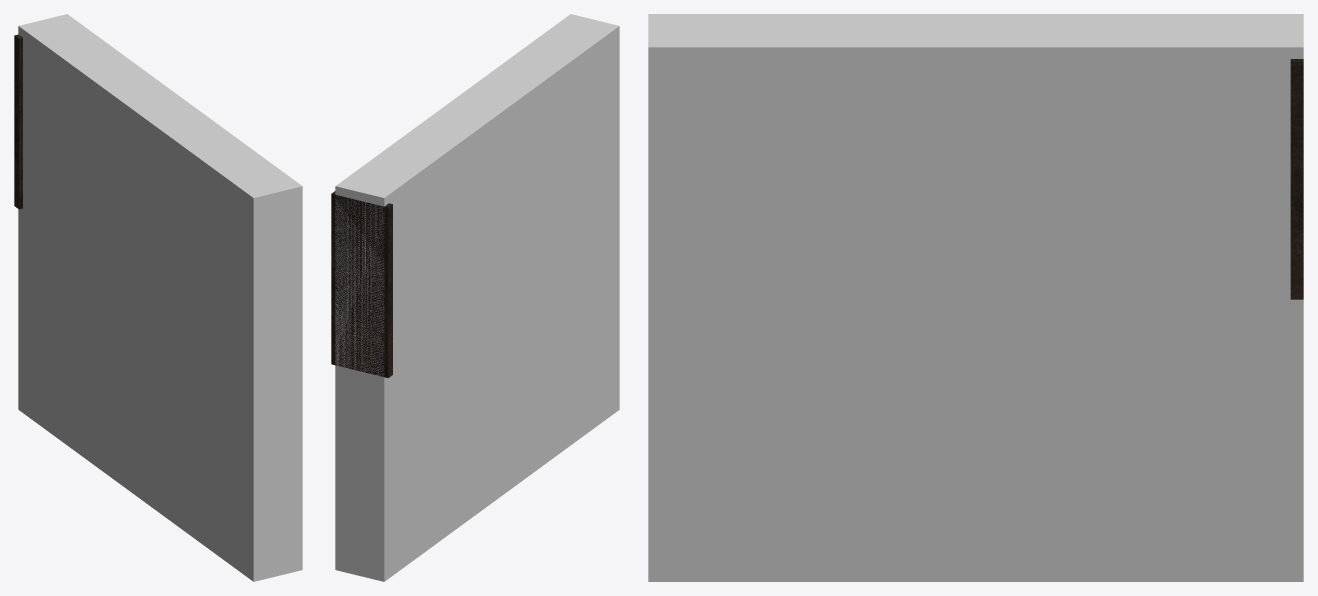
Rendered from hanging_sign_v1.glb.
3 views of the same model, side by side, from view 1: azimuth 30°, elevation 25°; view 2: azimuth 150°, elevation 25°; view 3: azimuth 270°, elevation 25° (orthographic). The views are drawn at different scales.
Parts seen in each view (by area): view 1: col_sign, bracket; view 2: col_sign, bracket; view 3: col_sign, bracket.
Boxes of the visible parts, x1=… form: col_sign: x1=18, y1=14, x2=302, y2=581; bracket: x1=14, y1=34, x2=22, y2=209; col_sign: x1=335, y1=14, x2=619, y2=581; bracket: x1=331, y1=191, x2=392, y2=378; col_sign: x1=648, y1=14, x2=1303, y2=581; bracket: x1=1290, y1=59, x2=1303, y2=299.
Bounding box in the file's own units: 0.14 × 0.9 × 1.
2 materials, 2 textured.
